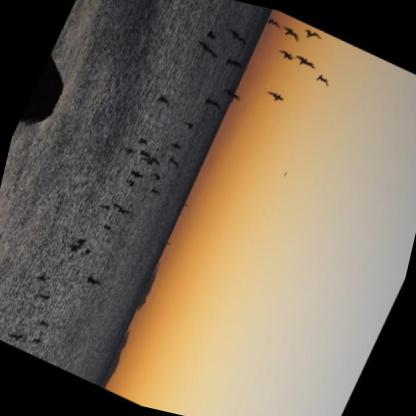bird: (221, 27, 253, 50), (192, 40, 225, 62), (291, 52, 321, 74), (220, 54, 248, 75), (198, 94, 225, 115), (277, 24, 304, 44), (218, 86, 245, 106), (261, 87, 288, 106), (82, 272, 106, 290), (275, 46, 298, 64), (125, 167, 149, 184), (301, 27, 324, 44), (32, 269, 52, 287), (165, 155, 186, 172), (313, 72, 333, 89), (5, 329, 26, 345), (34, 288, 53, 305), (167, 138, 187, 154), (265, 17, 284, 33), (178, 118, 197, 134), (201, 29, 220, 45), (121, 176, 140, 192), (155, 95, 174, 111), (72, 233, 91, 249), (66, 240, 83, 257), (33, 317, 51, 333), (27, 334, 45, 349), (146, 185, 166, 198), (136, 135, 153, 150), (121, 144, 137, 159), (147, 156, 165, 169), (95, 202, 113, 215), (80, 244, 95, 259), (149, 172, 165, 184), (116, 207, 132, 219), (137, 149, 153, 161), (139, 157, 154, 168), (111, 202, 124, 212), (101, 223, 114, 233)
